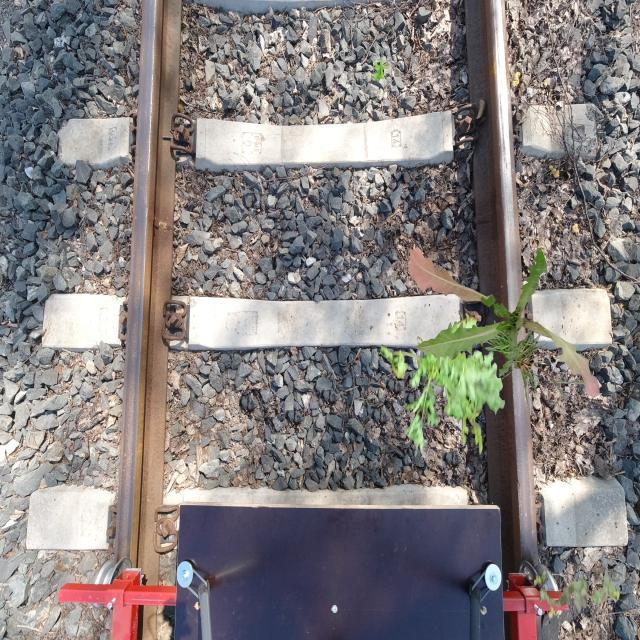Plant: (407, 246, 600, 398), (381, 311, 506, 458), (446, 318, 590, 408), (534, 568, 620, 620), (373, 59, 390, 83)
